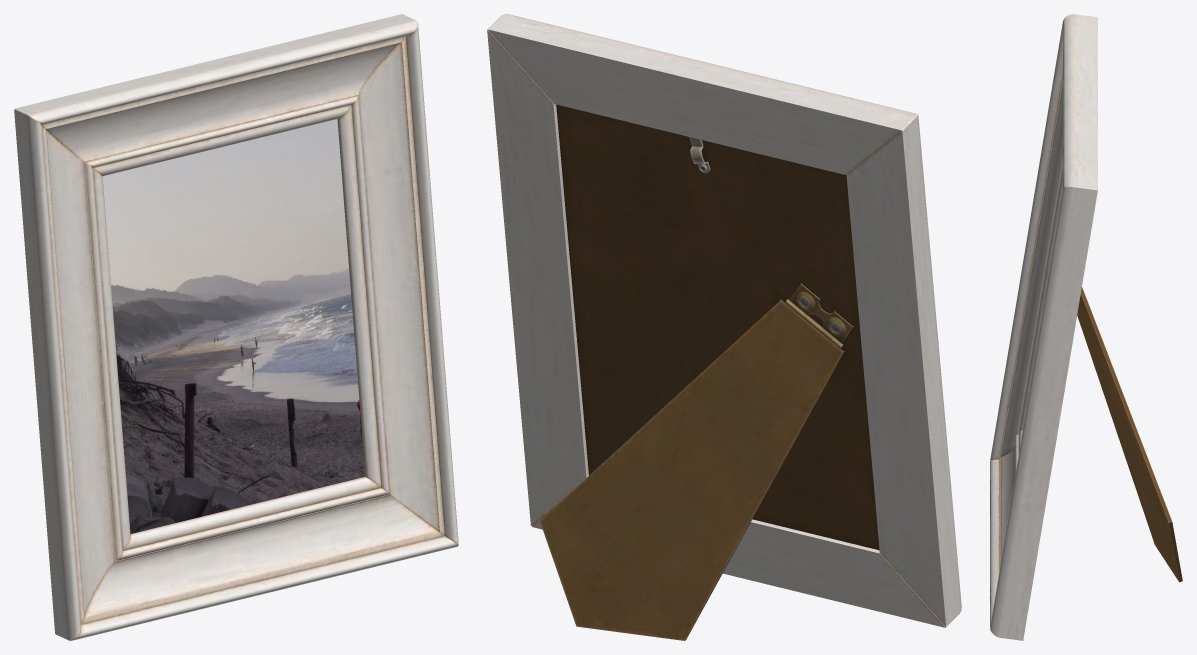
3 views of the same model, side by side, from view 1: azimuth 30°, elevation 25°; view 2: azimuth 150°, elevation 25°; view 3: azimuth 270°, elevation 25° (orthographic). The views are drawn at different scales.
Visible parts, largest first — view 1: standing_picture_frame_02; view 2: standing_picture_frame_02; view 3: standing_picture_frame_02.
Boxes of the visible parts, x1,y1,x2,y2 form: standing_picture_frame_02: (14, 14, 458, 640); standing_picture_frame_02: (487, 14, 961, 640); standing_picture_frame_02: (990, 14, 1182, 640).
Bounding box in the file's own units: 0.2169 × 0.2664 × 0.1023.
2 materials, 2 textured.
